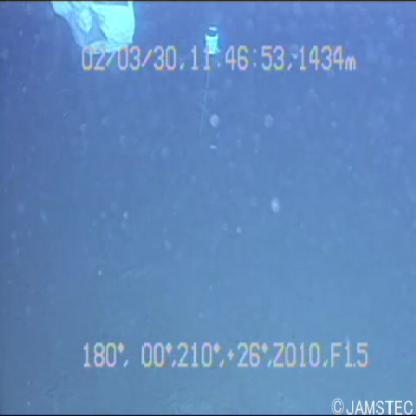Rác: (37, 2, 149, 56)
